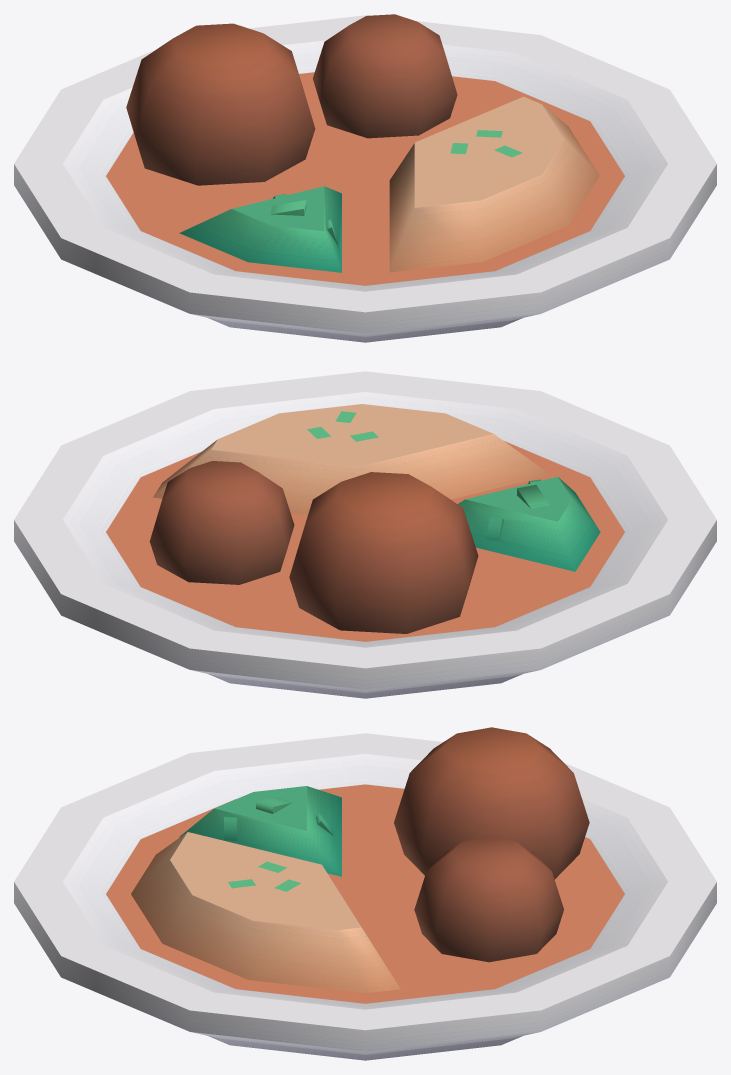
The model's file is plate-dinner.glb.
3 views of the same model, one above another, from view 1: azimuth 30°, elevation 25°; view 2: azimuth 150°, elevation 25°; view 3: azimuth 270°, elevation 25° (orthographic).
Parts seen in each view (by area): view 1: plate-dinner; view 2: plate-dinner; view 3: plate-dinner.
Boxes of the visible parts, <box> form: plate-dinner: <box>14,14,716,342</box>; plate-dinner: <box>14,371,716,698</box>; plate-dinner: <box>14,727,716,1060</box>.
Size of the model in its own units: 0.8918 by 0.2213 by 0.8918.
Materials: 1 (1 with a texture image).
